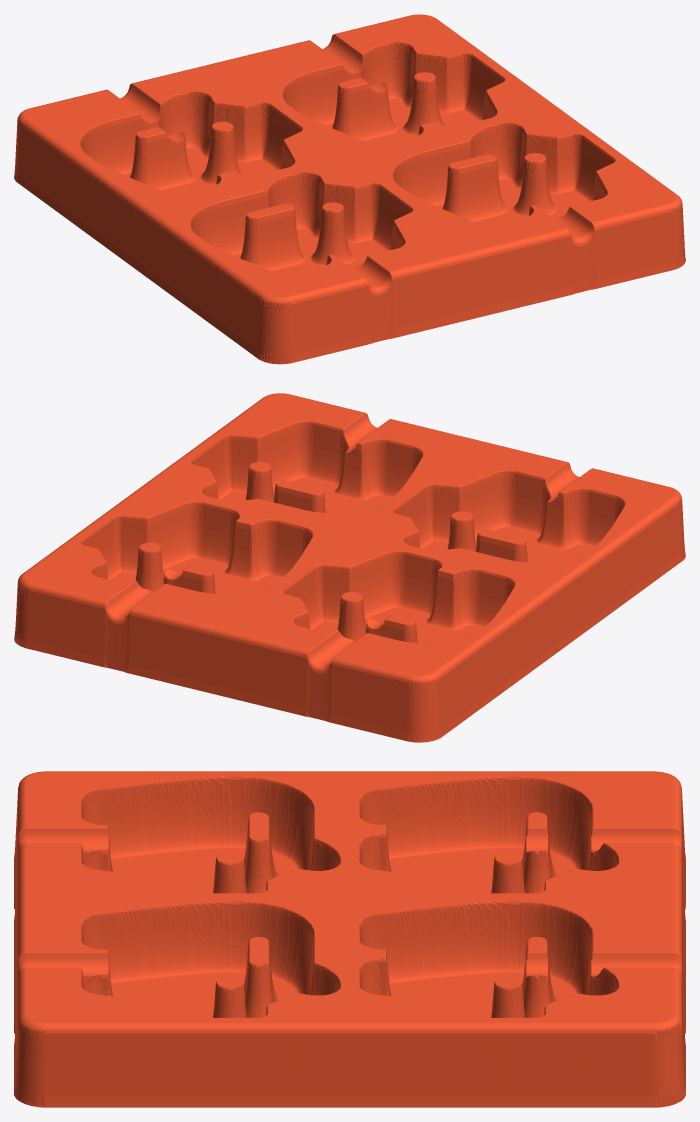
The model's file is mold.glb.
3 renders of one model, top to bottom at view 1: azimuth 30°, elevation 25°; view 2: azimuth 150°, elevation 25°; view 3: azimuth 270°, elevation 25°, orthographic. The views are drawn at different scales.
Parts seen in each view (by area): view 1: geometry_0; view 2: geometry_0; view 3: geometry_0.
Boxes of the visible parts, x1,y1,x2,y2 form: geometry_0: [14, 14, 685, 364]; geometry_0: [14, 393, 685, 742]; geometry_0: [14, 771, 685, 1107].
Bounding box in the file's own units: 0.1726 × 0.0245 × 0.1876.
